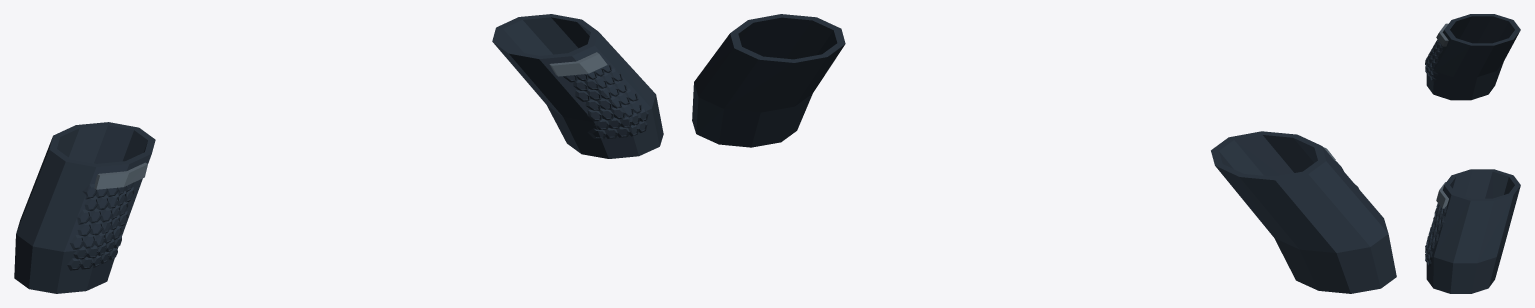
The model's file is ring_wrists-female.glb.
3 views of the same model, side by side, from view 1: azimuth 30°, elevation 25°; view 2: azimuth 150°, elevation 25°; view 3: azimuth 270°, elevation 25° (orthographic). The views are drawn at different scales.
Visible parts, largest first — view 1: ring wrist guard -1, ring wrist guard 1, ring woven coverage on ring wrist guard -1, ring woven coverage on ring wrist guard 1, Bracer rolled upper lip -1, Bracer rolled upper lip 1; view 2: ring wrist guard -1, ring wrist guard 1; view 3: ring wrist guard 1, ring wrist guard -1, ring woven coverage on ring wrist guard 1, ring woven coverage on ring wrist guard -1, Bracer rolled upper lip 1, Bracer rolled upper lip -1.
Part boxes in pixels (box(x1,y1,x2,y2)): ring wrist guard -1: box(14, 122, 155, 293); ring wrist guard 1: box(492, 14, 663, 158); ring woven coverage on ring wrist guard -1: box(67, 182, 134, 270); ring woven coverage on ring wrist guard 1: box(563, 60, 648, 139); Bracer rolled upper lip -1: box(94, 162, 147, 189); Bracer rolled upper lip 1: box(549, 52, 607, 76); ring wrist guard -1: box(1211, 131, 1396, 293); ring wrist guard 1: box(692, 14, 845, 147); ring wrist guard 1: box(1426, 169, 1520, 293); ring wrist guard -1: box(1426, 14, 1520, 100); ring woven coverage on ring wrist guard 1: box(1425, 203, 1446, 267); ring woven coverage on ring wrist guard -1: box(1425, 39, 1442, 81); Bracer rolled upper lip 1: box(1436, 182, 1448, 208); Bracer rolled upper lip -1: box(1436, 23, 1448, 46).
Size of the model in its own units: 3.86 by 0.6079 by 0.7019.
